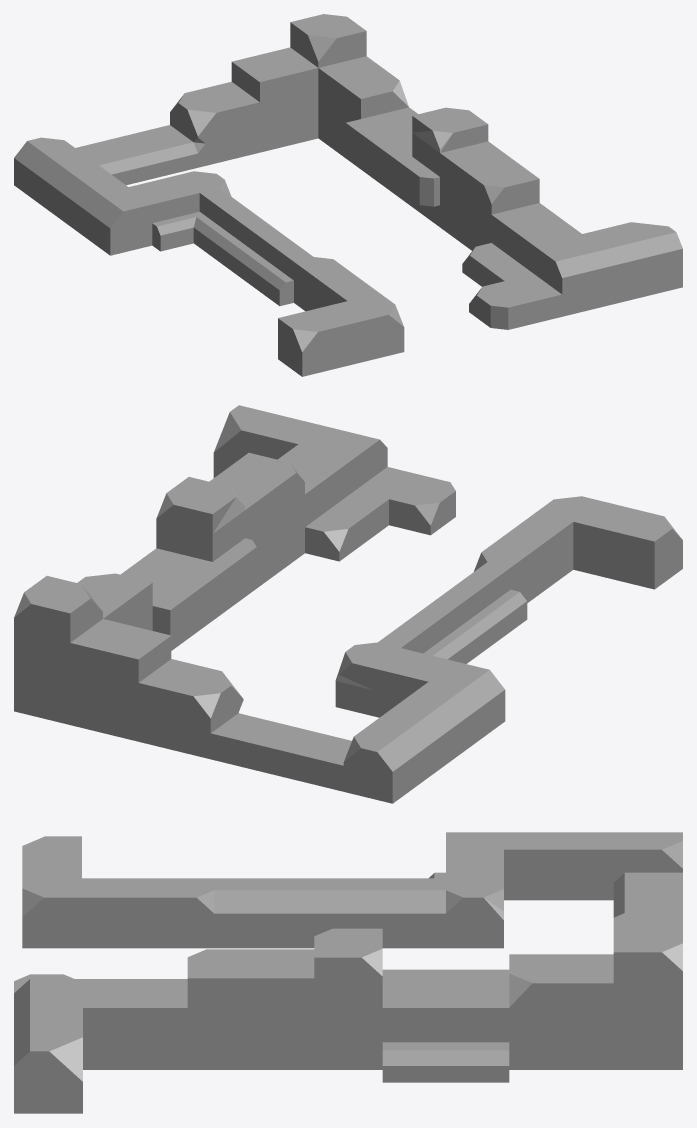
The model's file is ruin_12.fbx.
3 renders of one model, top to bottom at view 1: azimuth 30°, elevation 25°; view 2: azimuth 150°, elevation 25°; view 3: azimuth 270°, elevation 25°, orthographic. The views are drawn at different scales.
Parts seen in each view (by area): view 1: ruin_12; view 2: ruin_12; view 3: ruin_12.
Boxes of the visible parts, x1=… form: ruin_12: x1=14, y1=14, x2=682, y2=376; ruin_12: x1=14, y1=405, x2=682, y2=803; ruin_12: x1=14, y1=832, x2=682, y2=1113.
Bounding box in the file's own units: 325 × 74.79 × 385.
